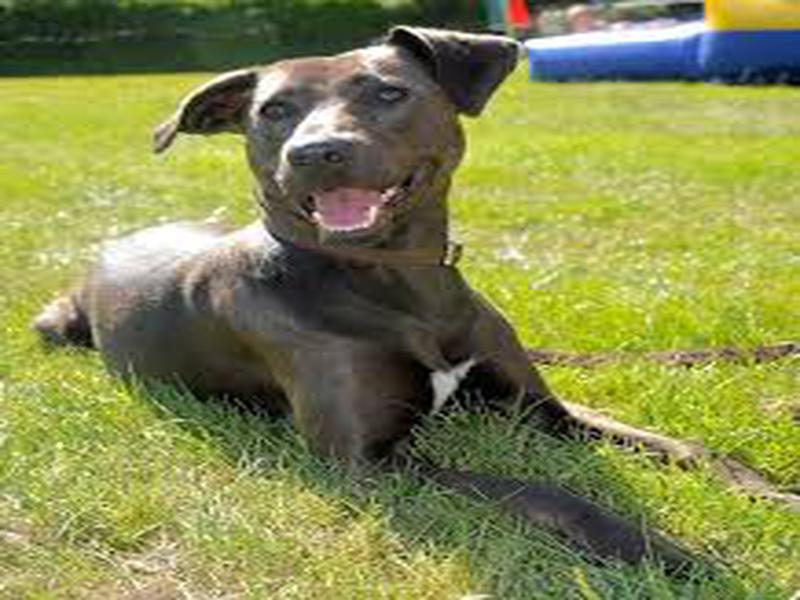dog_down: (30, 23, 800, 589)
